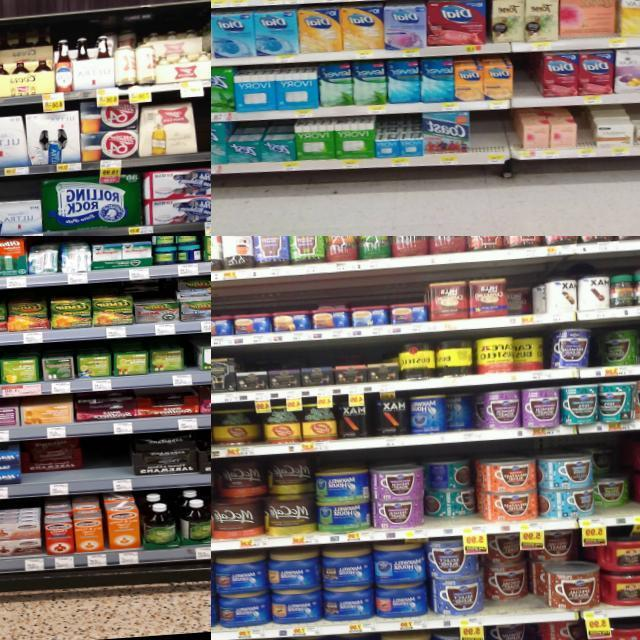empty: (82, 436, 131, 492), (470, 110, 508, 164), (513, 54, 538, 106), (196, 95, 211, 160), (576, 107, 590, 157)
